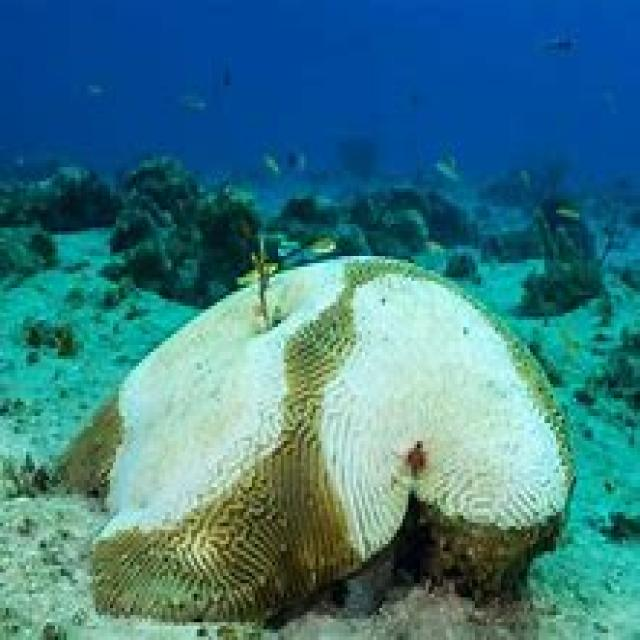Coral: (59, 255, 576, 623)
